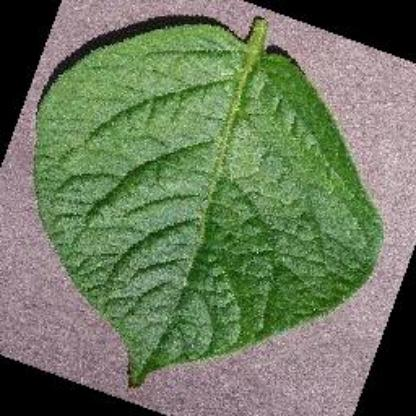Healthy-plant: (28, 22, 386, 392)
